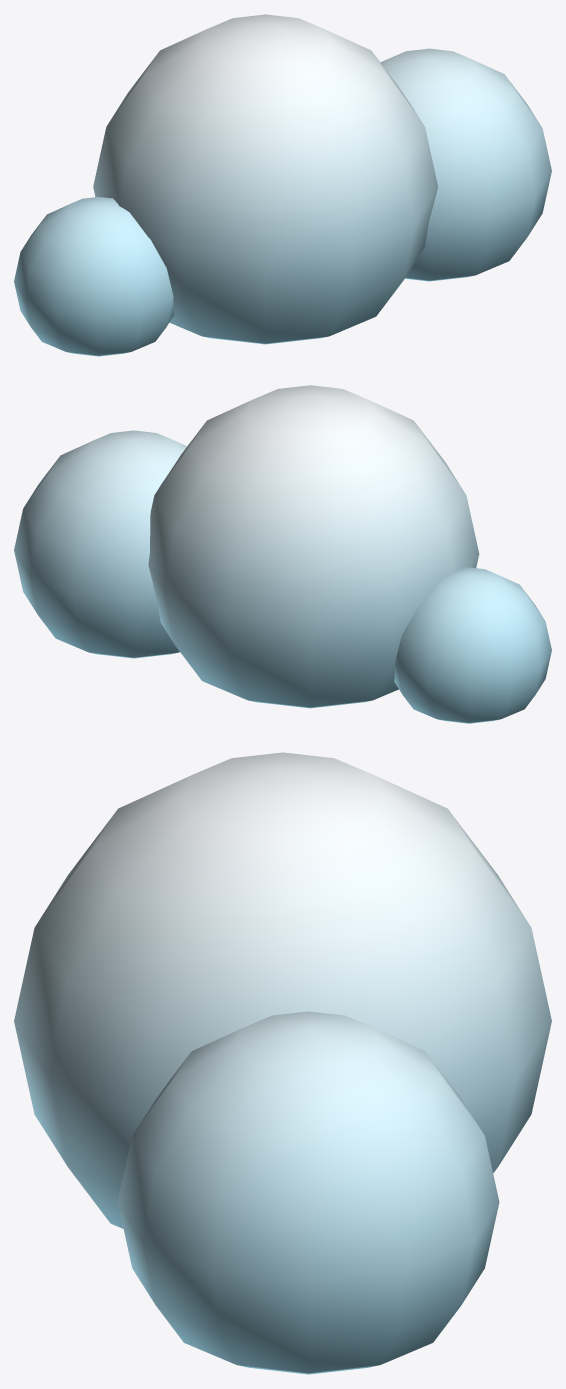
File: Cloud_01.fbx
3 renders of one model, top to bottom at view 1: azimuth 30°, elevation 25°; view 2: azimuth 150°, elevation 25°; view 3: azimuth 270°, elevation 25°, orthographic. The views are drawn at different scales.
Parts seen in each view (by area): view 1: Cloud_01; view 2: Cloud_01; view 3: Cloud_01.
Part boxes in pixels (x1=…): Cloud_01: x1=14, y1=14, x2=551, y2=356; Cloud_01: x1=14, y1=385, x2=551, y2=723; Cloud_01: x1=14, y1=752, x2=551, y2=1374.
Size of the model in its own units: 345 by 171 by 200.
